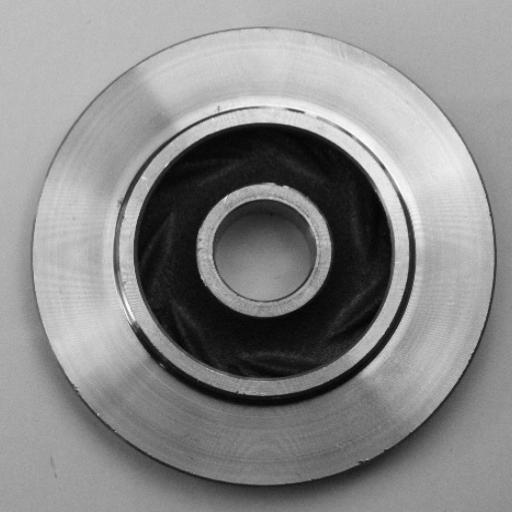scratch: (103, 197, 140, 335)
unpolished_casting: (32, 25, 498, 495)
